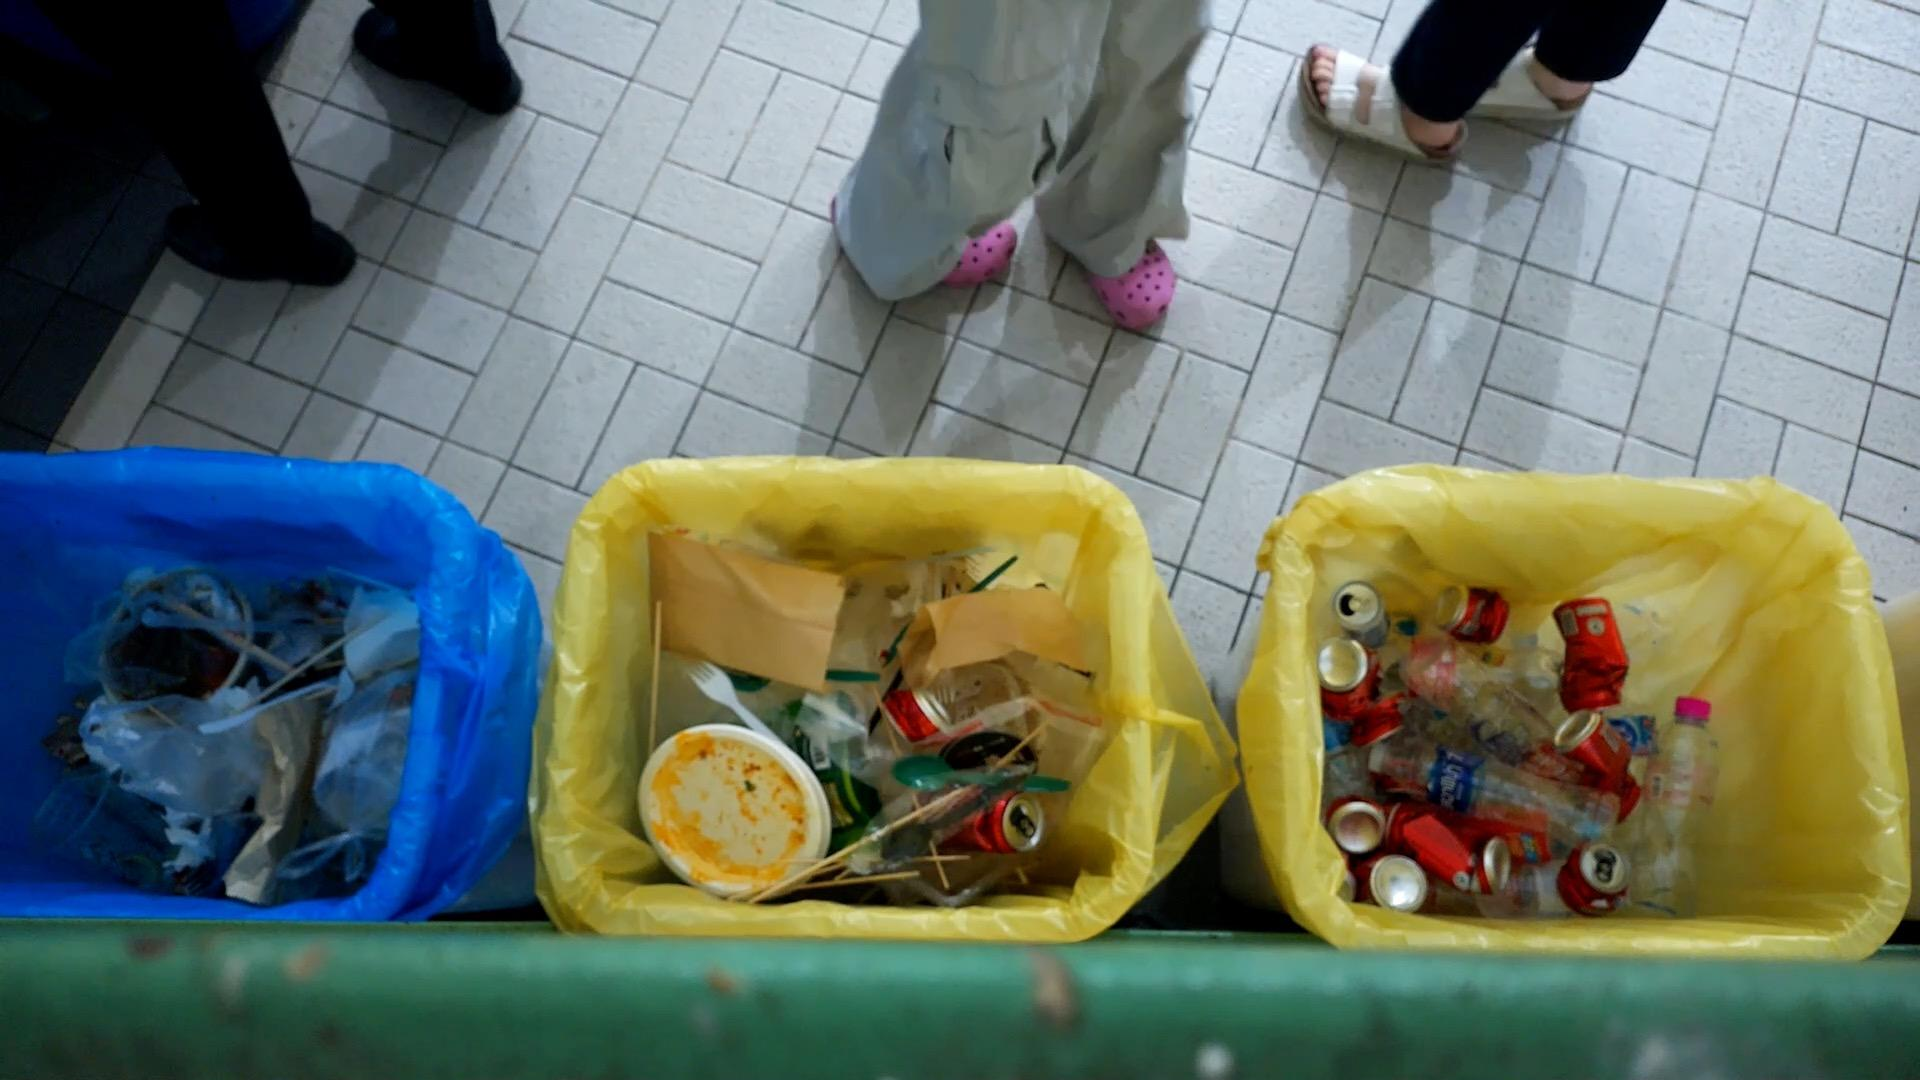can: (1386, 794, 1514, 898), (1320, 636, 1410, 750), (1553, 708, 1650, 808), (1553, 595, 1633, 713), (936, 787, 1051, 858), (1553, 836, 1631, 920), (1433, 583, 1509, 646), (874, 686, 953, 745), (1364, 851, 1431, 916), (1336, 579, 1391, 650), (1325, 794, 1387, 857)
dirty food container: (637, 723, 828, 899)
filled plastic bag: (270, 662, 415, 886), (82, 696, 262, 812)
paper bag: (645, 533, 853, 694), (222, 688, 326, 910), (894, 589, 1089, 691)
plastic bottle: (1364, 740, 1627, 853), (1623, 696, 1725, 916)
plastic cutlery: (880, 762, 1033, 864), (890, 754, 1071, 806), (679, 658, 782, 740)
sticks: (754, 783, 969, 910), (148, 585, 295, 679), (902, 774, 956, 893), (757, 870, 919, 902), (640, 595, 665, 766)
